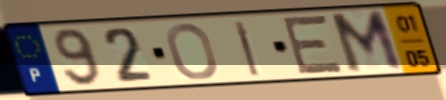2: (103, 26, 157, 84)
9: (51, 26, 105, 88)
E: (280, 13, 347, 77)
I: (231, 19, 262, 79)
M: (326, 8, 407, 76)
O: (164, 21, 221, 82)
